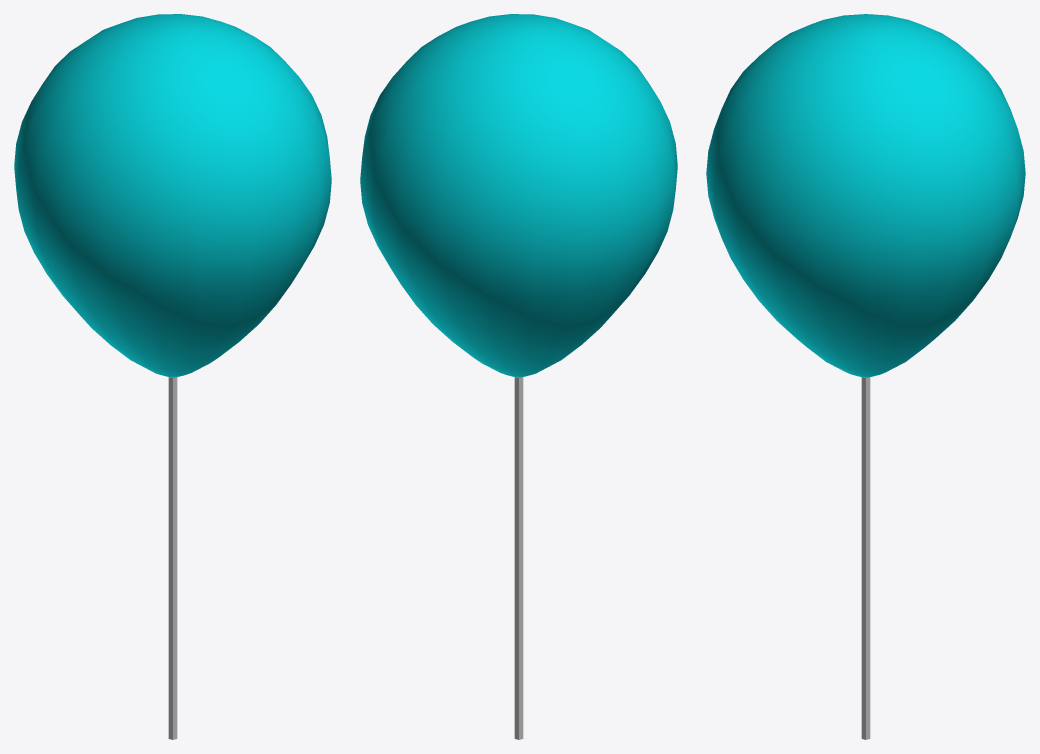
File: BALLOON 2.fbx
3 views of the same model, side by side, from view 1: azimuth 30°, elevation 25°; view 2: azimuth 150°, elevation 25°; view 3: azimuth 270°, elevation 25° (orthographic).
Parts seen in each view (by area): view 1: pSphere2, pCylinder2; view 2: pSphere2, pCylinder2; view 3: pSphere2, pCylinder2.
Boxes of the visible parts, <box> form: pSphere2: <box>14,14,331,377</box>; pCylinder2: <box>168,377,177,739</box>; pSphere2: <box>360,14,677,377</box>; pCylinder2: <box>514,377,523,739</box>; pSphere2: <box>706,14,1025,377</box>; pCylinder2: <box>861,377,870,739</box>.
Bounding box in the file's own units: 2 × 4.9 × 2.
Materials: 2 (1 with a texture image).
